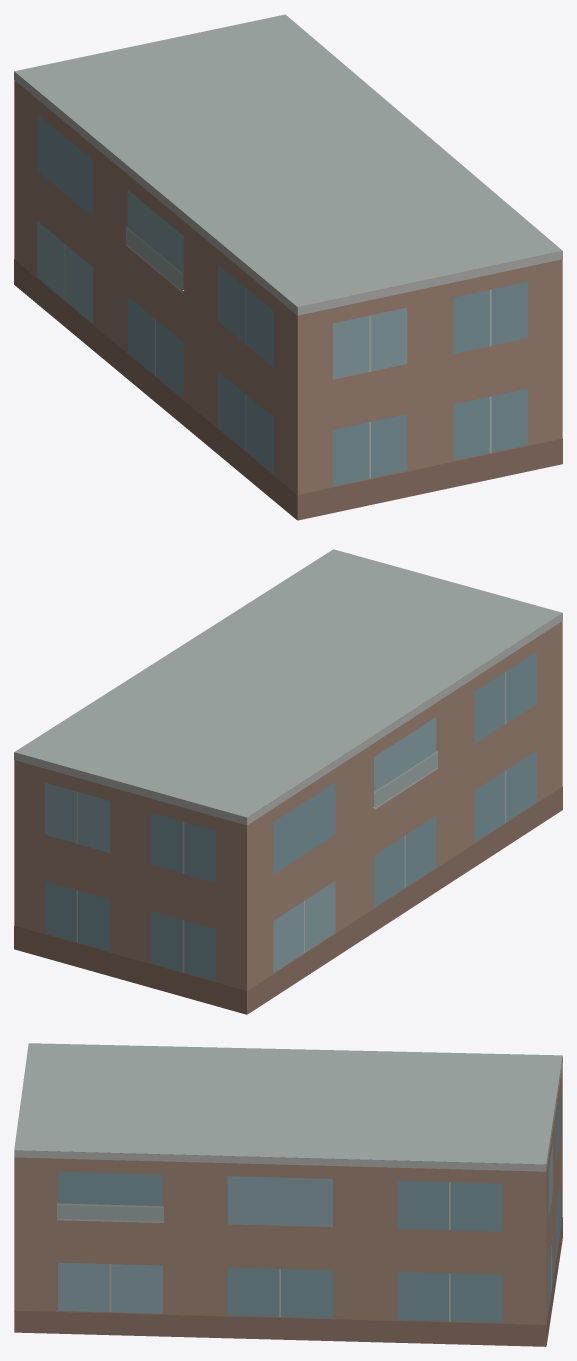
Rendered from survey-upis-32702296.glb.
3 renders of one model, top to bottom at view 1: azimuth 30°, elevation 25°; view 2: azimuth 150°, elevation 25°; view 3: azimuth 270°, elevation 25°, orthographic. The views are drawn at different scales.
Visible parts, largest first — view 1: survey-upis-32702296.tmp; view 2: survey-upis-32702296.tmp; view 3: survey-upis-32702296.tmp.
Part boxes in pixels (box(x1,y1,x2,y2)): survey-upis-32702296.tmp: box(14, 14, 562, 520); survey-upis-32702296.tmp: box(14, 549, 562, 1014); survey-upis-32702296.tmp: box(14, 1043, 562, 1346).
Bounding box in the file's own units: 8.72 × 6.1 × 16.65.
